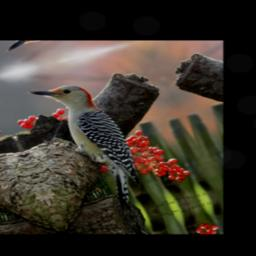Woodpecker: (22, 73, 162, 227)
